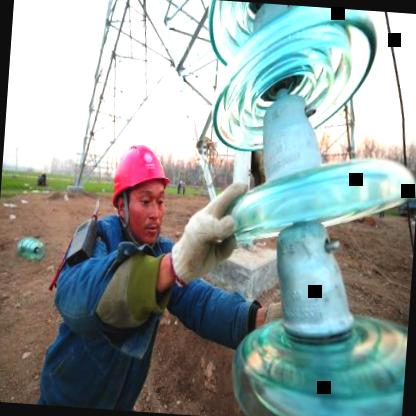helmet: (99, 126, 184, 249)
